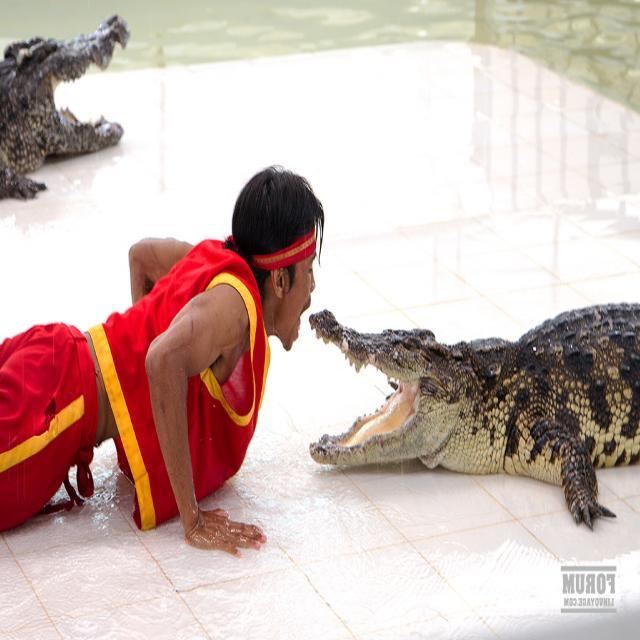crocodile: (286, 294, 639, 551)
